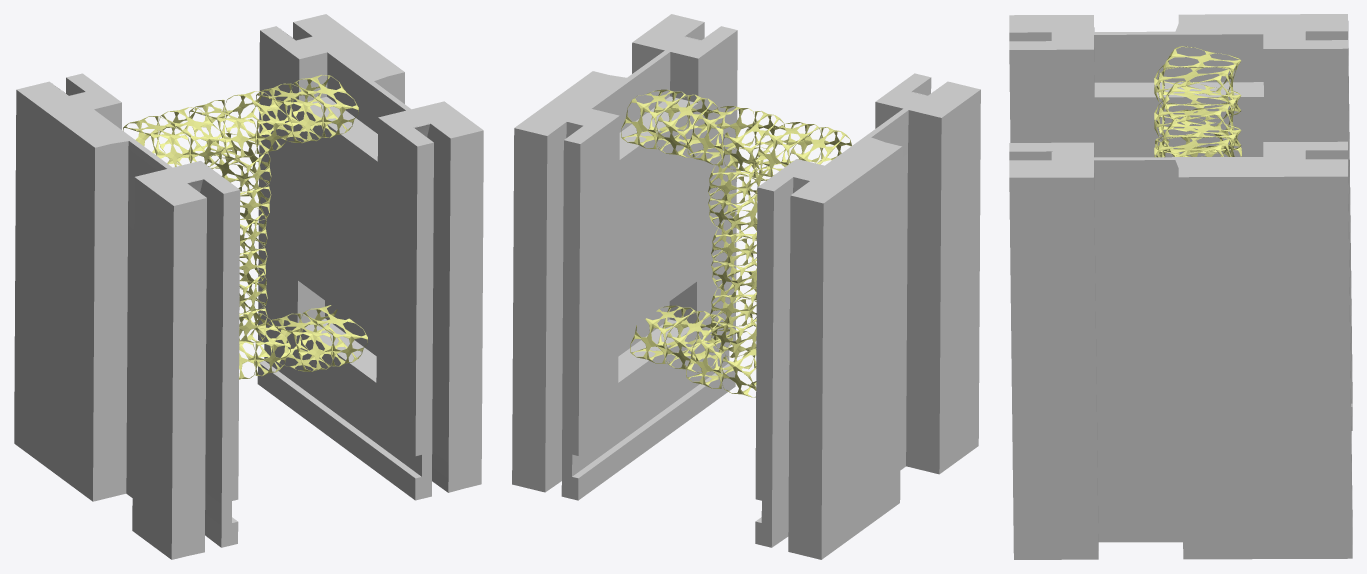
Rendered from norm.fbx.
The picture shows the model from 3 angles, left to right: view 1: azimuth 30°, elevation 25°; view 2: azimuth 150°, elevation 25°; view 3: azimuth 270°, elevation 25°; orthographic projection. The views are drawn at different scales.
Visible parts, largest first — view 1: Cube.001, a.004, a.001, a.005, a.003, a.007, a.009, a.006, a.008; view 2: Cube.001, a.004, a.001, a.005, a.007, a.003, a.006, a.008, a.009; view 3: Cube.001, a.003, a.005, a.004, a.007.
Part boxes in pixels (x1,y1,x2,y2): Cube.001: [14, 14, 483, 559]; a.004: [256, 74, 358, 143]; a.001: [266, 305, 367, 371]; a.005: [189, 91, 292, 159]; a.003: [123, 107, 225, 166]; a.007: [206, 132, 271, 220]; a.009: [239, 313, 290, 379]; a.006: [239, 260, 267, 342]; a.008: [239, 200, 267, 282]; Cube.001: [512, 14, 980, 559]; a.004: [621, 89, 721, 157]; a.001: [630, 305, 732, 372]; a.005: [687, 106, 787, 173]; a.007: [708, 147, 772, 235]; a.003: [754, 122, 851, 176]; a.006: [710, 270, 756, 357]; a.008: [711, 210, 757, 297]; a.009: [686, 329, 756, 397]; Cube.001: [1009, 14, 1352, 559]; a.003: [1154, 46, 1241, 124]; a.005: [1154, 81, 1241, 156]; a.004: [1154, 116, 1241, 157]; a.007: [1155, 133, 1241, 157].
Bounding box in the file's own units: 2183 × 2403 × 1948.
